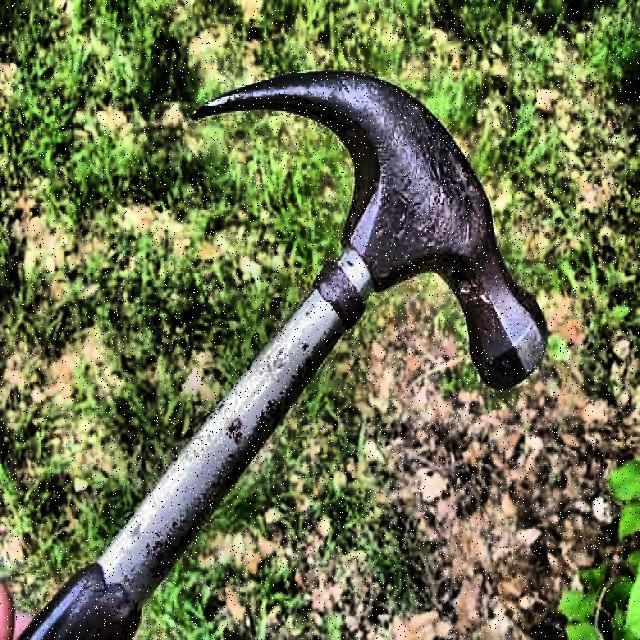hammer: (22, 67, 550, 640)
